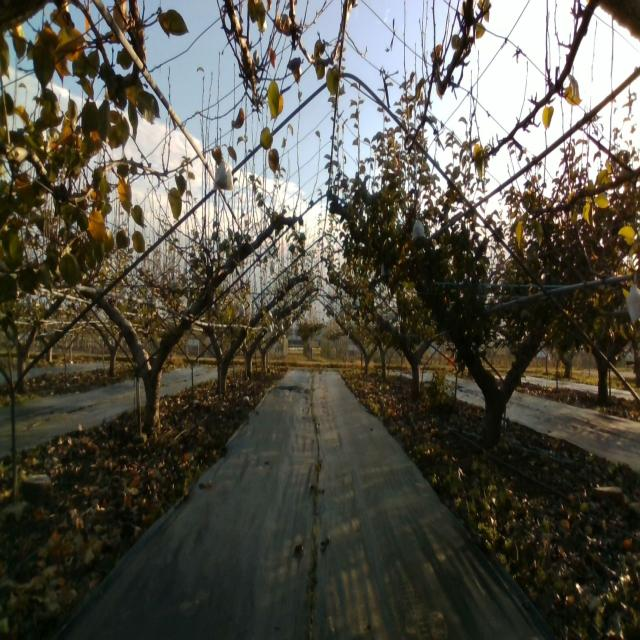pearbags: (213, 154, 234, 191), (625, 282, 640, 326), (411, 218, 426, 243)
